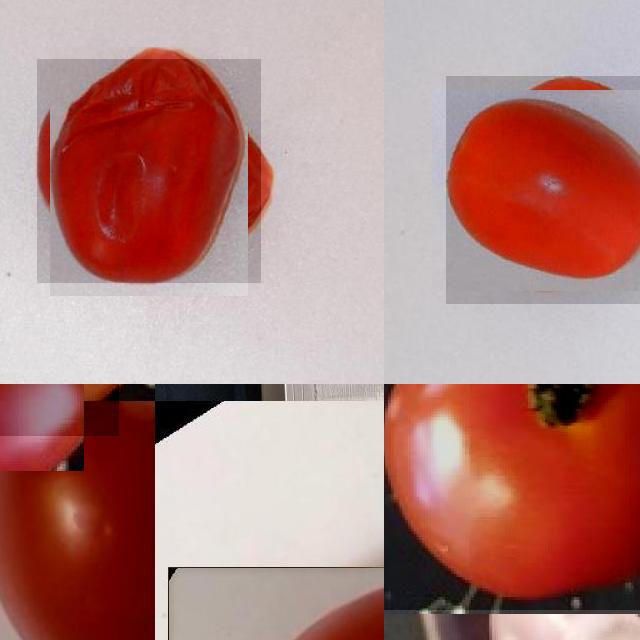Fresh Tomato: (384, 384, 640, 609), (446, 75, 640, 304), (0, 401, 155, 640), (167, 567, 384, 640)
Rotten Tomato: (37, 59, 261, 283)
